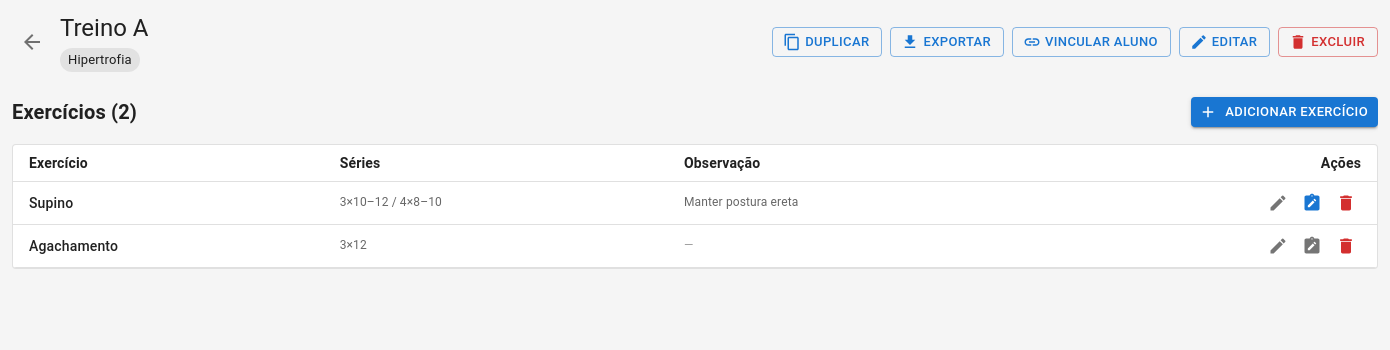
Test: DetalheFichaPage — Vincular aluno › aluno já vinculado gera erro e não abre o diálogo
The width and height of the screenshot is (1390, 350).
Step 1. Click the button "Vincular aluno" → (1091, 42), box [1012,27,1171,57]
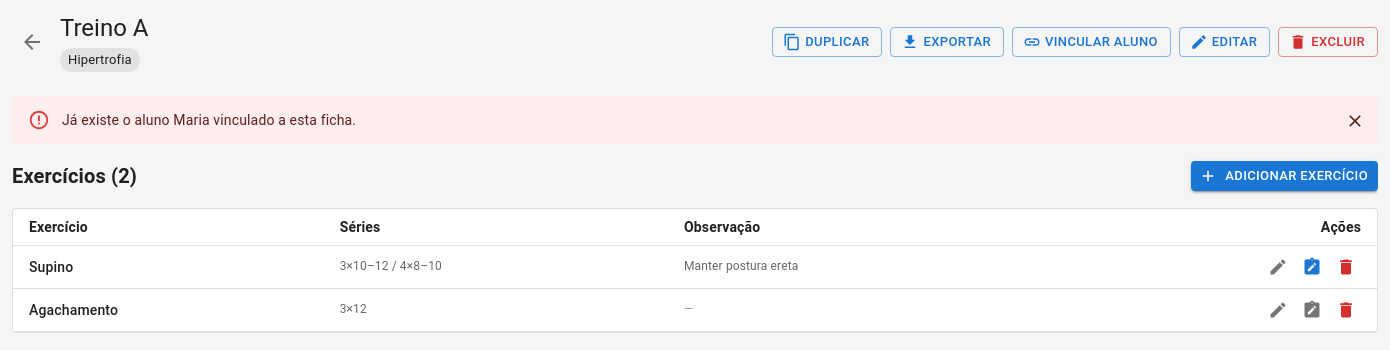
Now the text "Já existe o aluno Maria vinculado a esta ficha." is shown, box [62,112,356,128]
